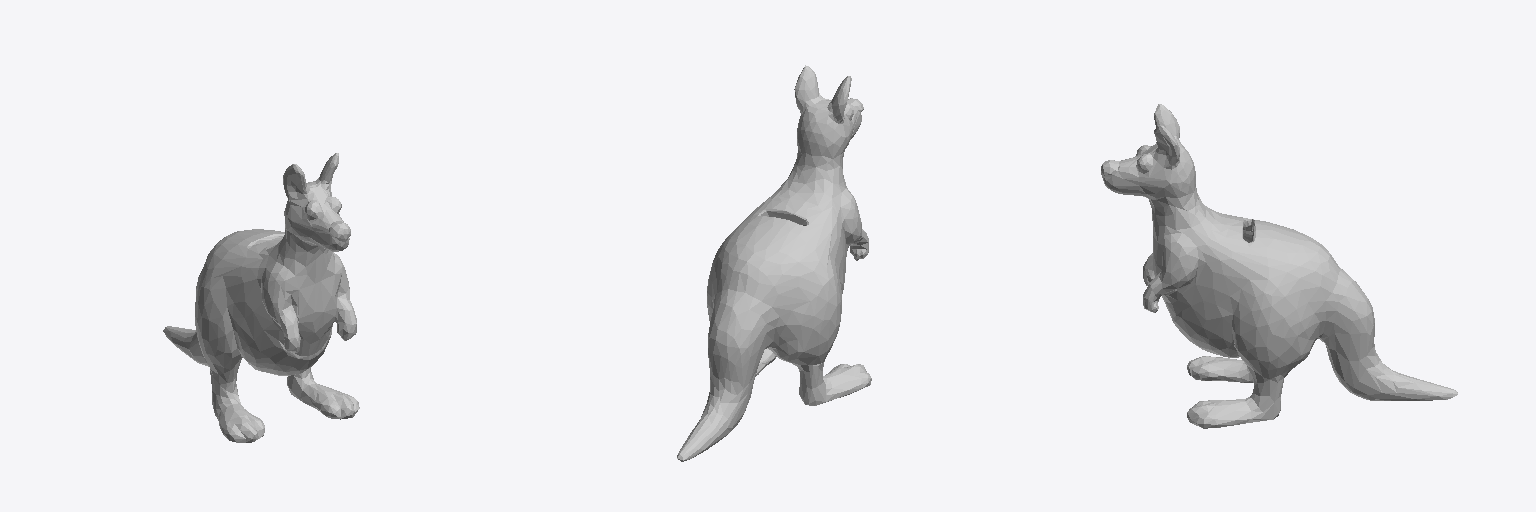
Rendered from kangaroo.obj.
3 renders of one model, left to right at view 1: azimuth 30°, elevation 25°; view 2: azimuth 150°, elevation 25°; view 3: azimuth 270°, elevation 25°, orthographic.
Parts seen in each view (by area): view 1: 16467_CoinBank_Kangaroo_V1; view 2: 16467_CoinBank_Kangaroo_V1; view 3: 16467_CoinBank_Kangaroo_V1.
Boxes of the visible parts, x1=… form: 16467_CoinBank_Kangaroo_V1: x1=163, y1=153, x2=359, y2=442; 16467_CoinBank_Kangaroo_V1: x1=677, y1=65, x2=871, y2=461; 16467_CoinBank_Kangaroo_V1: x1=1101, y1=104, x2=1457, y2=428.
Bounding box in the file's own units: 2.36 × 4.86 × 5.58.